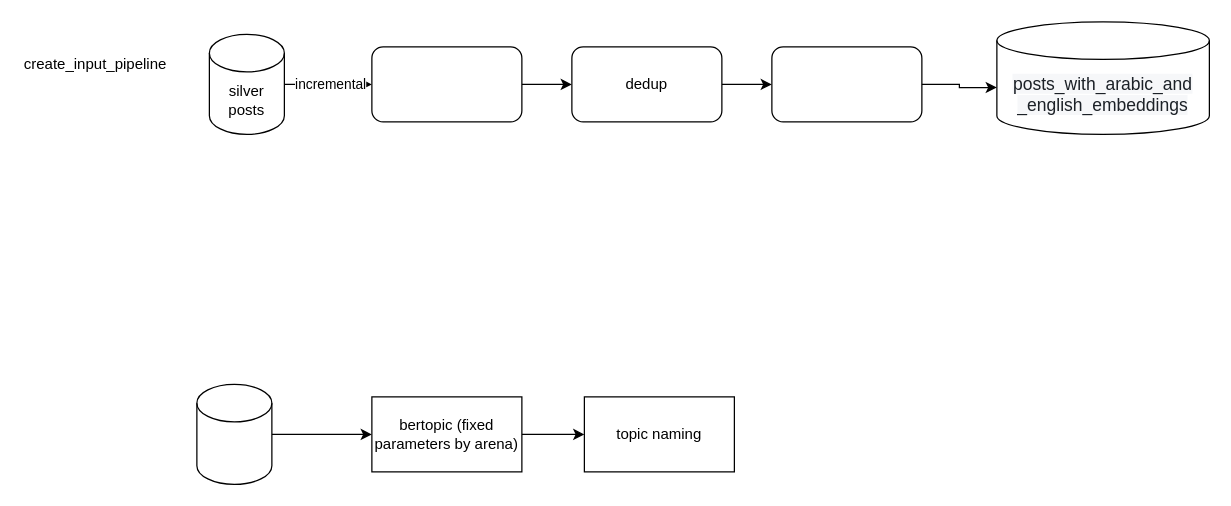
The diagram is 1231 pixels wide and 506 high, and some of its shapes have lost their labels. The shapes that lost their labels are listed below. From the top down, each one's box as (x1, y1, x2, y2) in pixels, then its label:
(371, 46, 522, 122): preprocess (remove emojies/spaces and urls)
(771, 46, 922, 122): embedding (orig lang)
(196, 383, 272, 484): by arena embeddinbg (e.g. gaza)
